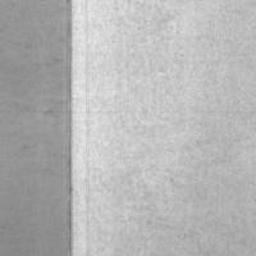Welding line: (65, 0, 74, 256)
